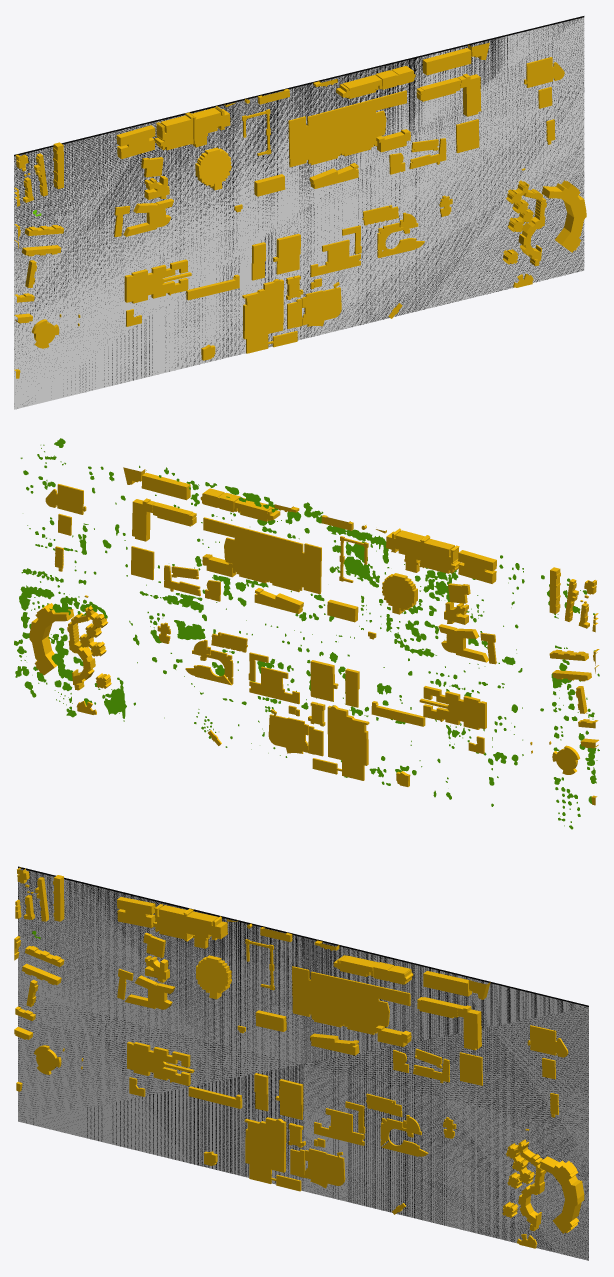
File: existing_trees_06.glb
3 renders of one model, top to bottom at view 1: azimuth 30°, elevation 25°; view 2: azimuth 150°, elevation 25°; view 3: azimuth 330°, elevation 25°, orthographic.
Visible parts, largest first — view 1: base, existing_building - Copy, Layer 04; view 2: existing_building - Copy, treesurface; view 3: base, Layer 04, existing_building - Copy.
Boxes of the visible parts, x1,y1,x2,y2 form: base: [14, 17, 584, 409]; existing_building - Copy: [14, 42, 586, 378]; Layer 04: [14, 16, 584, 404]; existing_building - Copy: [29, 467, 599, 805]; treesurface: [14, 438, 599, 829]; base: [18, 868, 588, 1260]; Layer 04: [18, 866, 588, 1260]; existing_building - Copy: [14, 867, 584, 1248].
Size of the model in its own units: 1018 by 458 by 20.85.
